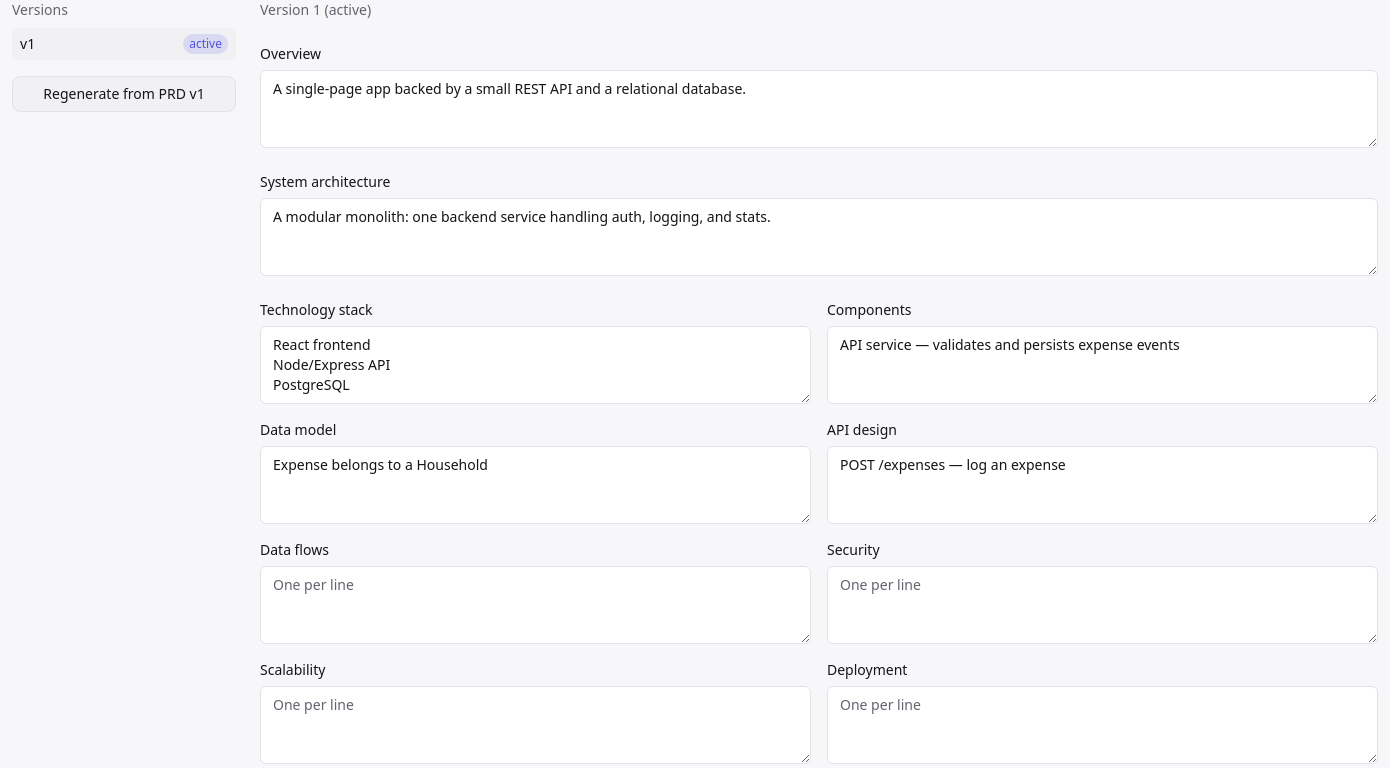
Test: ArchitectureSection — populated state › saves edited fields via PATCH and surfaces a server error if it fails
Replace the text in the text box labelled "Overview" with "An edited overview.": [819, 109] box [260,70,1378,148]
(page scrolled)
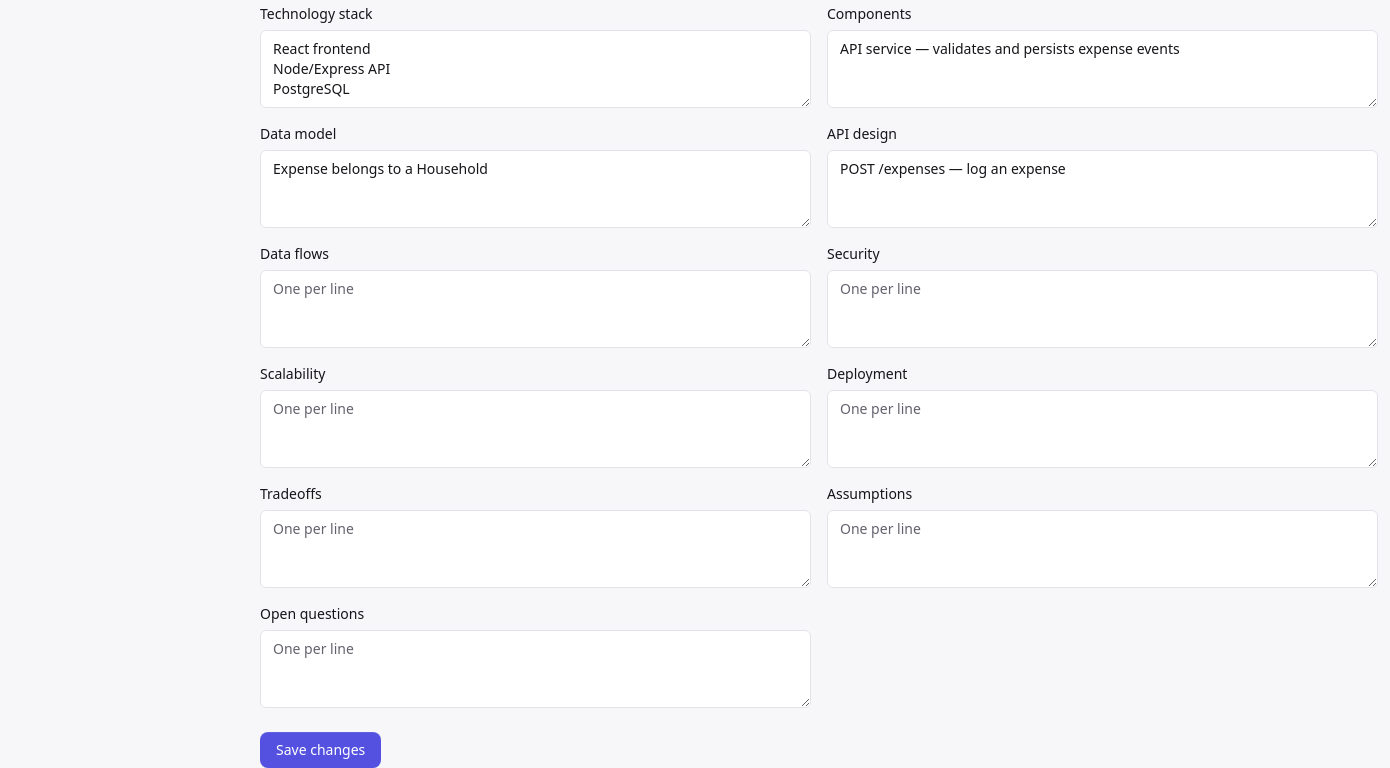
Click the button "Save changes": [321, 750] box [260,732,381,767]
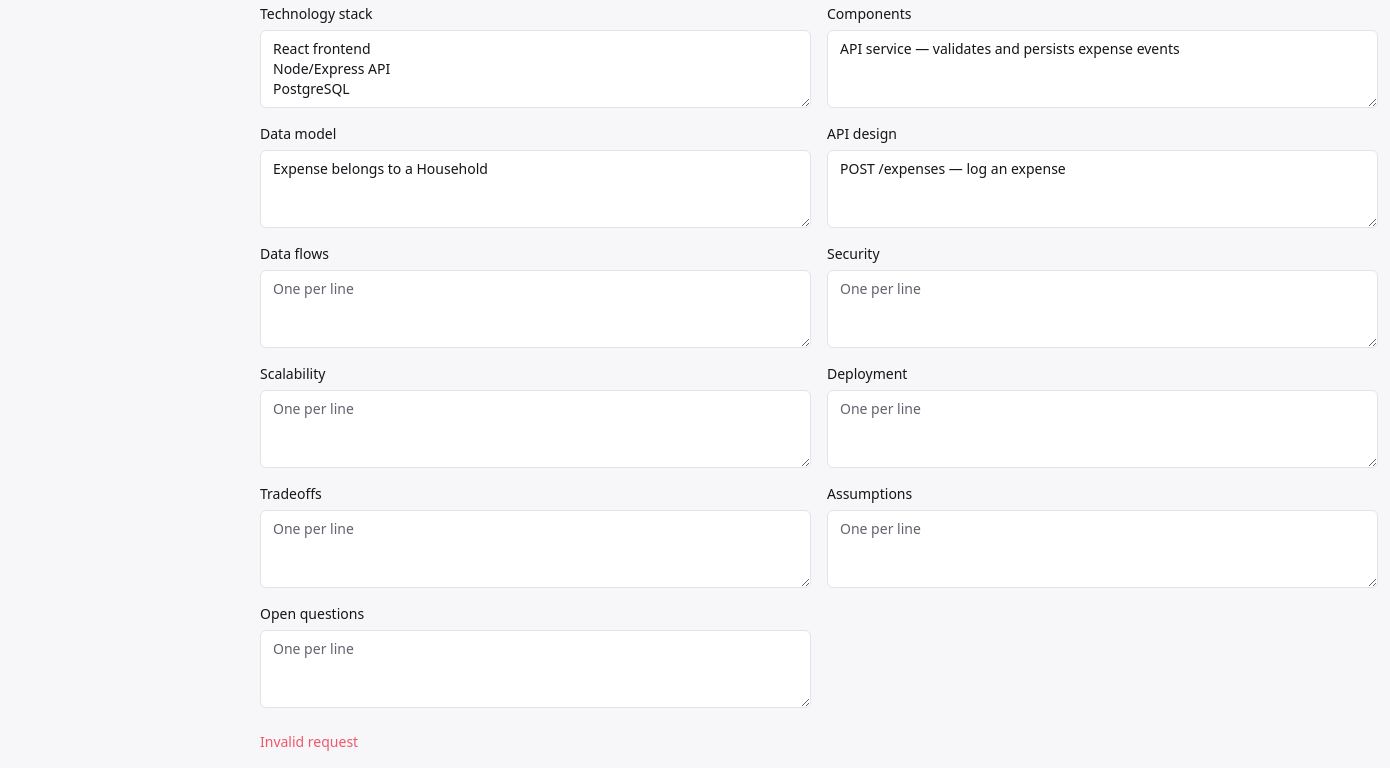
Result: the text "Invalid request" is shown at [260,732,358,751]
